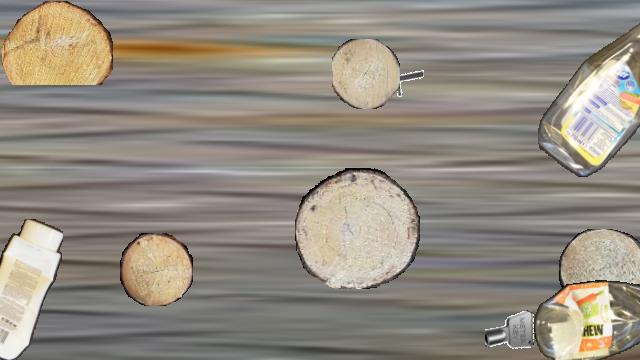metal: (485, 306, 535, 356), (386, 61, 424, 99)
plastic: (538, 1, 640, 177), (0, 219, 62, 359), (534, 279, 640, 359)
wood: (295, 168, 419, 288), (2, 1, 112, 85), (559, 229, 640, 313), (120, 233, 192, 305), (332, 39, 400, 109)
